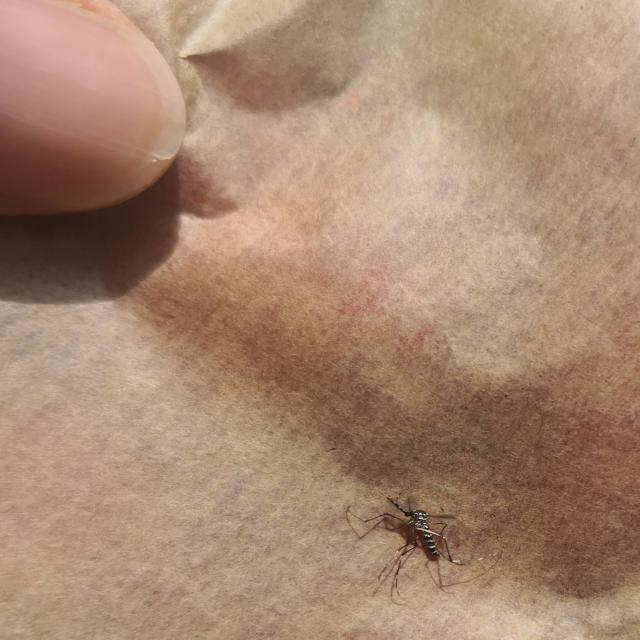albopictus: (338, 486, 472, 603)
